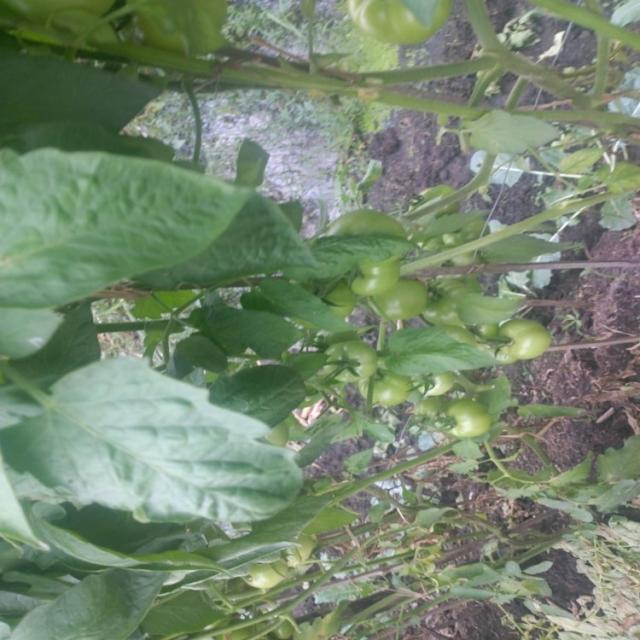tomato: (342, 1, 443, 47), (323, 210, 408, 245), (496, 319, 556, 365), (325, 340, 374, 390), (375, 280, 434, 320), (361, 363, 411, 408), (447, 401, 493, 440), (348, 266, 399, 301), (411, 370, 464, 400), (411, 181, 454, 215)
